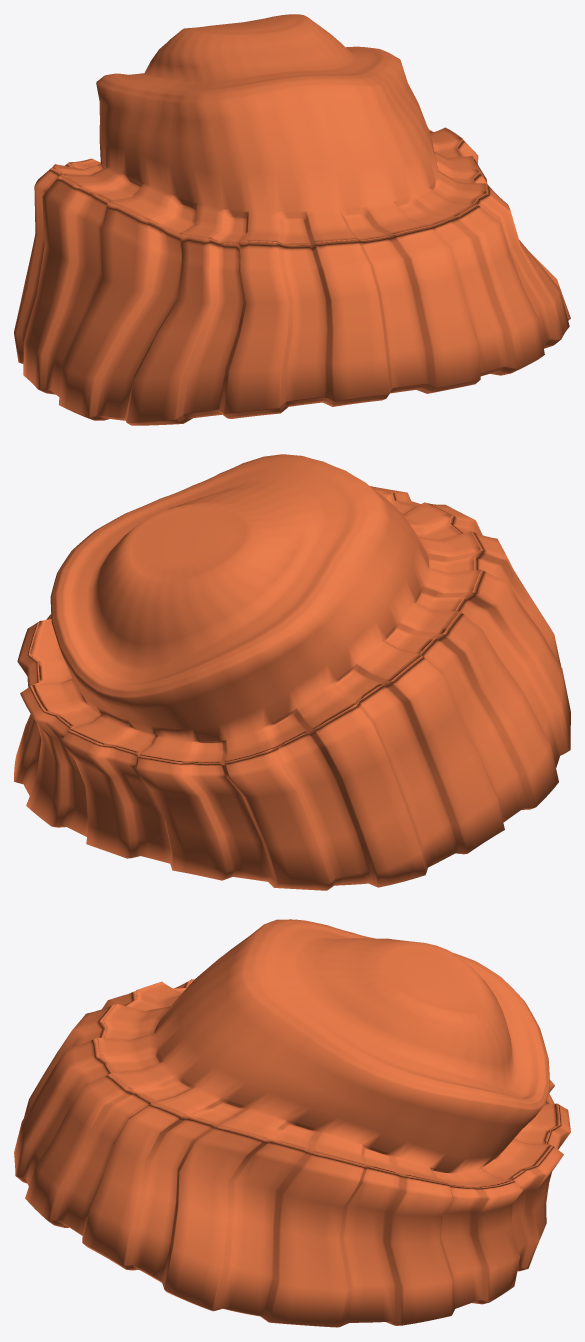
Rendered from Hat_HP.fbx.
The picture shows the model from 3 angles, top to bottom: view 1: azimuth 30°, elevation 25°; view 2: azimuth 150°, elevation 25°; view 3: azimuth 270°, elevation 25°; orthographic projection. The views are drawn at different scales.
Parts seen in each view (by area): view 1: Hat; view 2: Hat; view 3: Hat.
Part boxes in pixels (left/top/right/bottom): Hat: left=14, top=14, right=570, bottom=425; Hat: left=14, top=454, right=570, bottom=890; Hat: left=14, top=919, right=570, bottom=1327.
Size of the model in its own units: 50.09 by 31.18 by 53.55.
